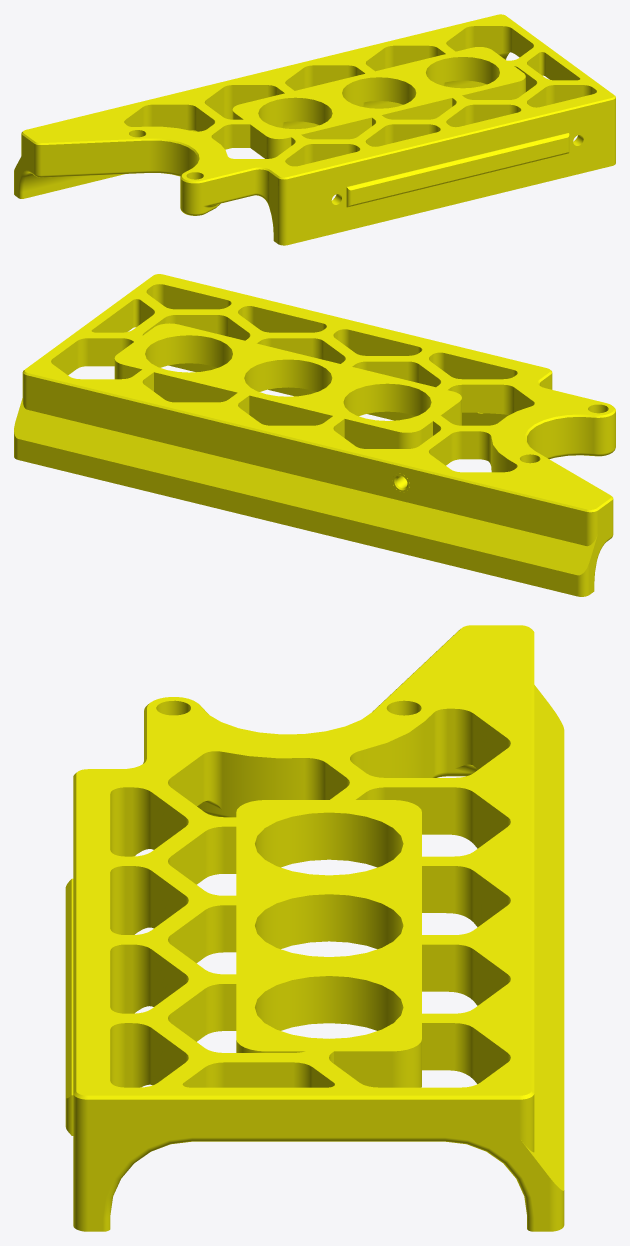
Rendered from frontskirt.glb.
3 views of the same model, one above another, from view 1: azimuth 30°, elevation 25°; view 2: azimuth 150°, elevation 25°; view 3: azimuth 270°, elevation 25° (orthographic). The views are drawn at different scales.
Parts seen in each view (by area): view 1: frontskirt; view 2: frontskirt; view 3: frontskirt.
Boxes of the visible parts, box(x1,y1,x2,y2) form: frontskirt: box(14, 14, 615, 245); frontskirt: box(14, 274, 615, 596); frontskirt: box(65, 625, 564, 1231).
Size of the model in its own units: 8.91 by 1.18 by 3.97.
